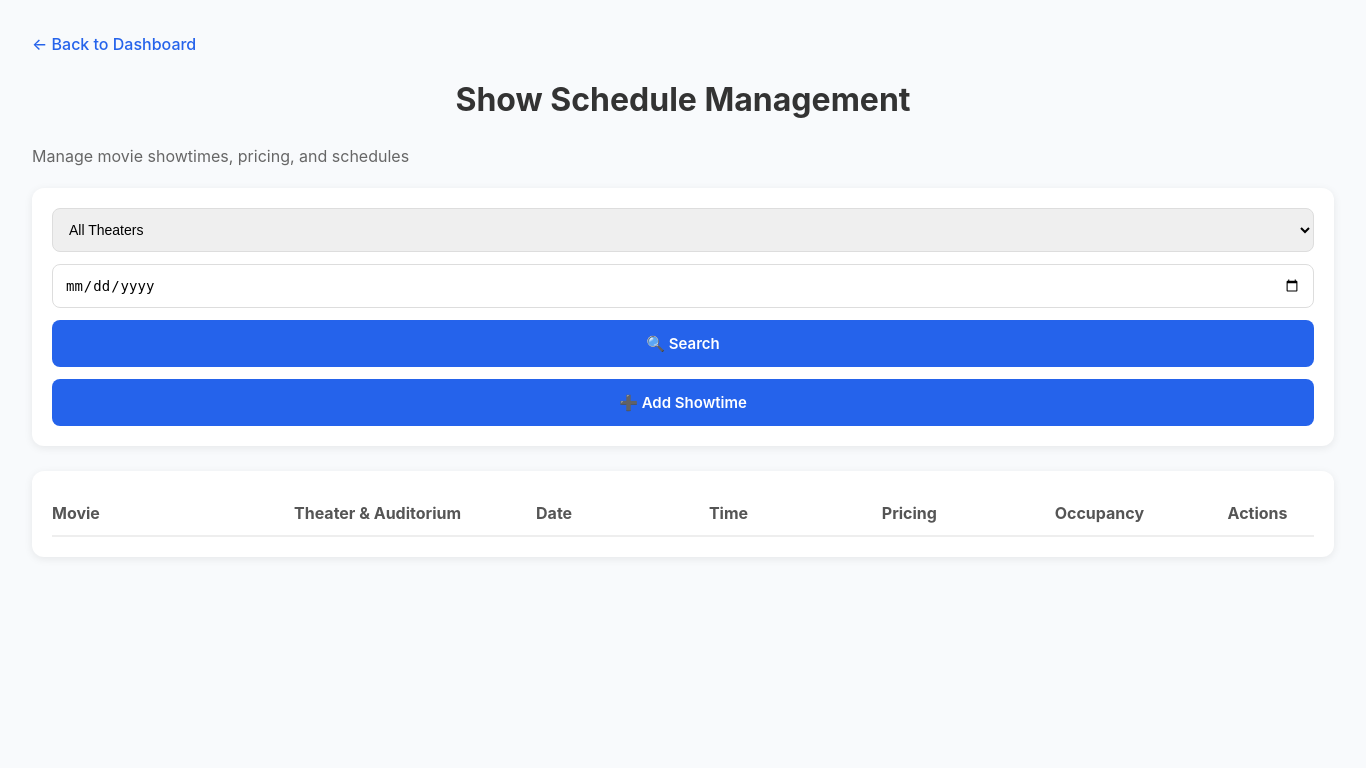
Test: Schedule Management Page – Basic Functionality › opens Add Showtime modal
Click the button "➕ Add Showtime". click: (683, 403)
box: [52,379,1314,426]
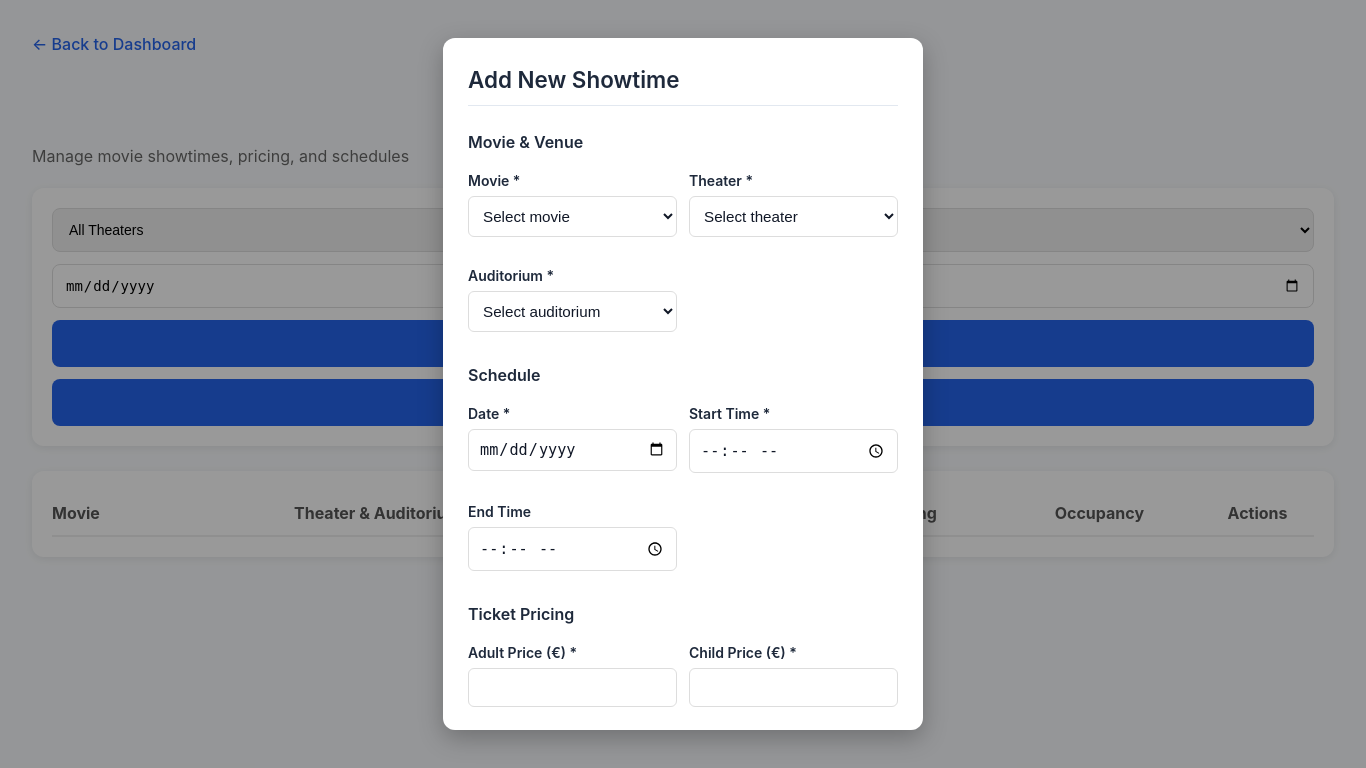
Check: the heading "Add New Showtime" is shown, box [468,63,898,106]
Check: the element with class "modal" is shown, box [443,38,923,729]
